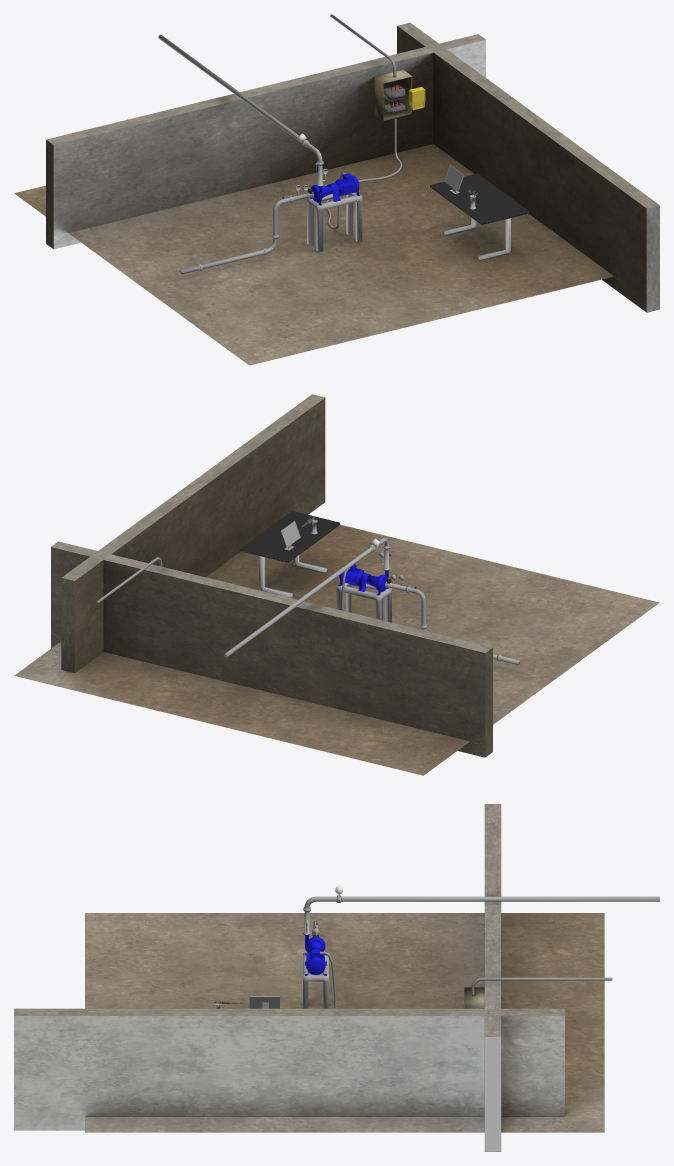
The model's file is pumptest20.glb.
3 renders of one model, top to bottom at view 1: azimuth 30°, elevation 25°; view 2: azimuth 150°, elevation 25°; view 3: azimuth 270°, elevation 25°, orthographic. The views are drawn at different scales.
Parts seen in each view (by area): view 1: Plane.001, Cube.044, Cube.045, Cube.035, Cube.033, Cube.038, Cylinder.005, Cylinder.003; view 2: Plane.001, Cube.044, Cube.045, Cube.035, Cylinder.005, Cube.033; view 3: Cube.045, Plane.001, Cube.044, Cylinder.005, Cube.033, Cylinder.016.
Boxes of the visible parts, x1,y1,x2,y2 form: Plane.001: (14,144,614,365); Cube.044: (46,34,485,249); Cube.045: (397,22,659,312); Cube.035: (430,173,529,224); Cube.033: (307,192,362,252); Cube.038: (374,69,412,121); Cylinder.005: (158,35,323,186); Cylinder.003: (179,192,313,274); Plane.001: (14,524,659,775); Cube.044: (51,541,492,757); Cube.045: (61,394,325,672); Cube.035: (240,511,339,562); Cylinder.005: (224,538,389,657); Cube.033: (336,583,391,622); Cube.045: (14,1008,564,1130); Plane.001: (85,913,604,1132); Cube.044: (484,804,501,1151); Cylinder.005: (303,896,659,934); Cube.033: (303,953,328,1008); Cylinder.016: (471,977,612,996).
Size of the model in its own units: 65.56 by 17.3 by 76.86.
Materials: 13 (4 with a texture image).
